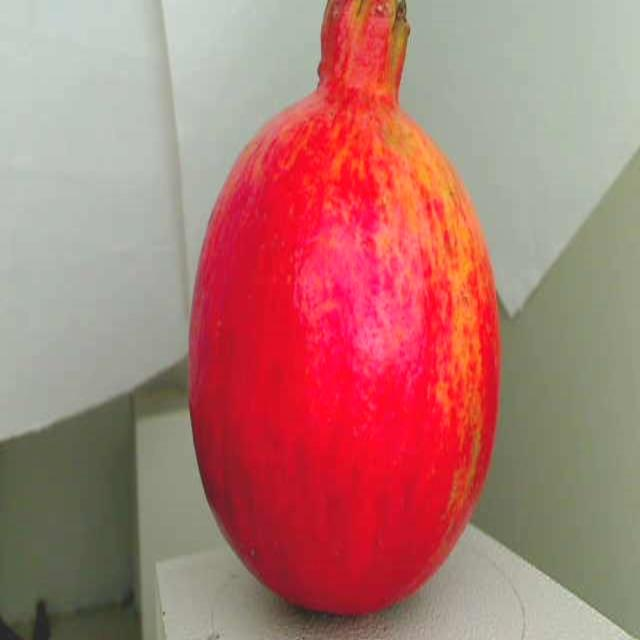pomegranate: (174, 0, 509, 640)
